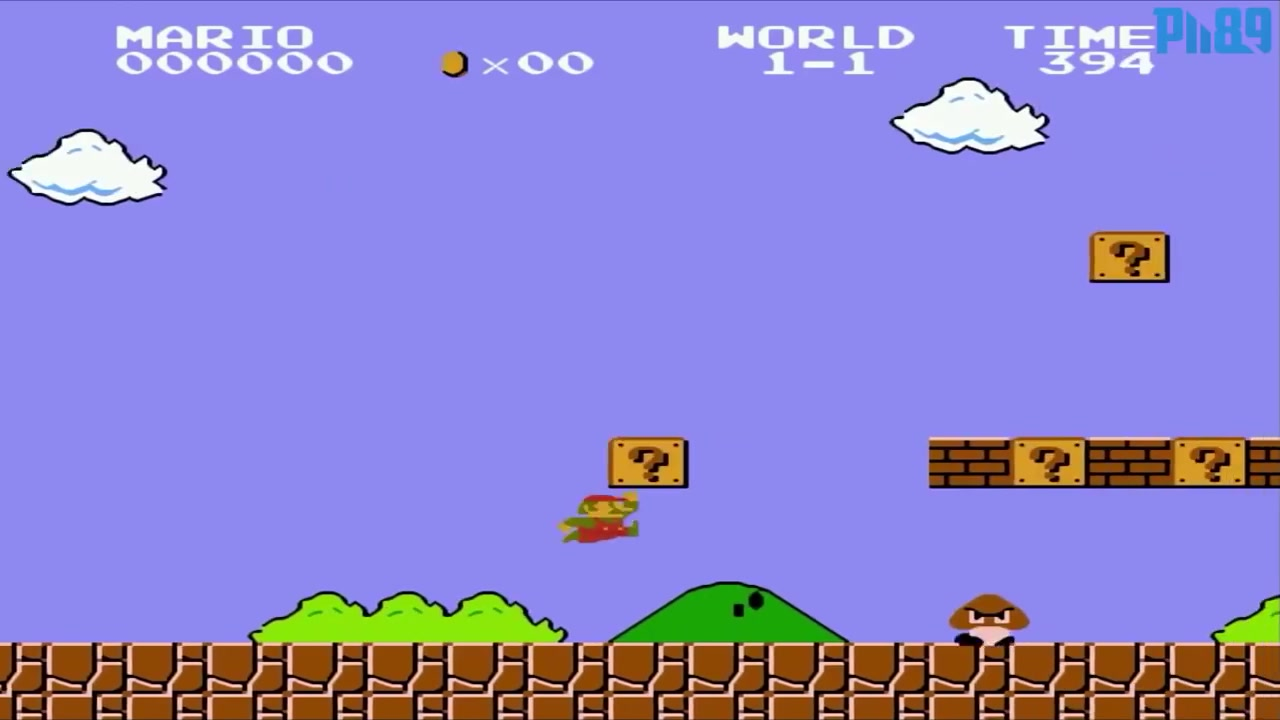mario: (549, 486, 651, 547)
